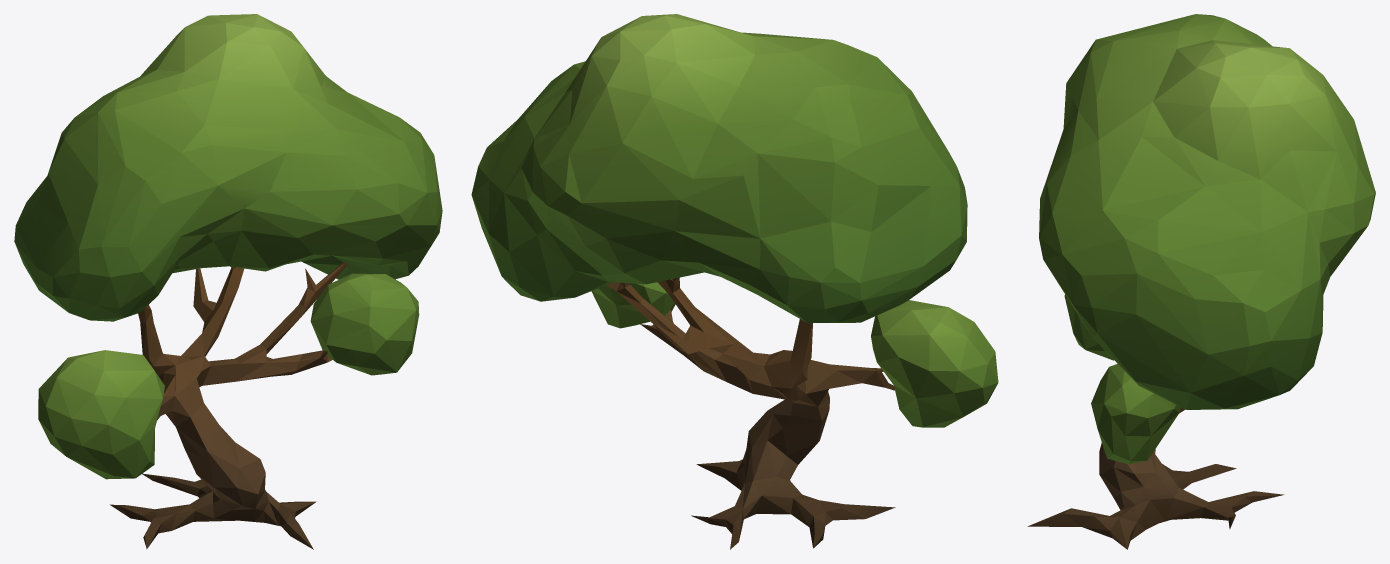
Rendered from Tree_02.fbx.
The picture shows the model from 3 angles, left to right: view 1: azimuth 30°, elevation 25°; view 2: azimuth 150°, elevation 25°; view 3: azimuth 270°, elevation 25°; orthographic projection. The views are drawn at different scales.
Parts seen in each view (by area): view 1: Tree_02; view 2: Tree_02; view 3: Tree_02.
Part boxes in pixels (bbox=[...]): Tree_02: bbox=[14, 14, 442, 549]; Tree_02: bbox=[471, 14, 998, 549]; Tree_02: bbox=[1027, 14, 1375, 549].
Size of the model in its own units: 7.54 by 7.96 by 5.08.
